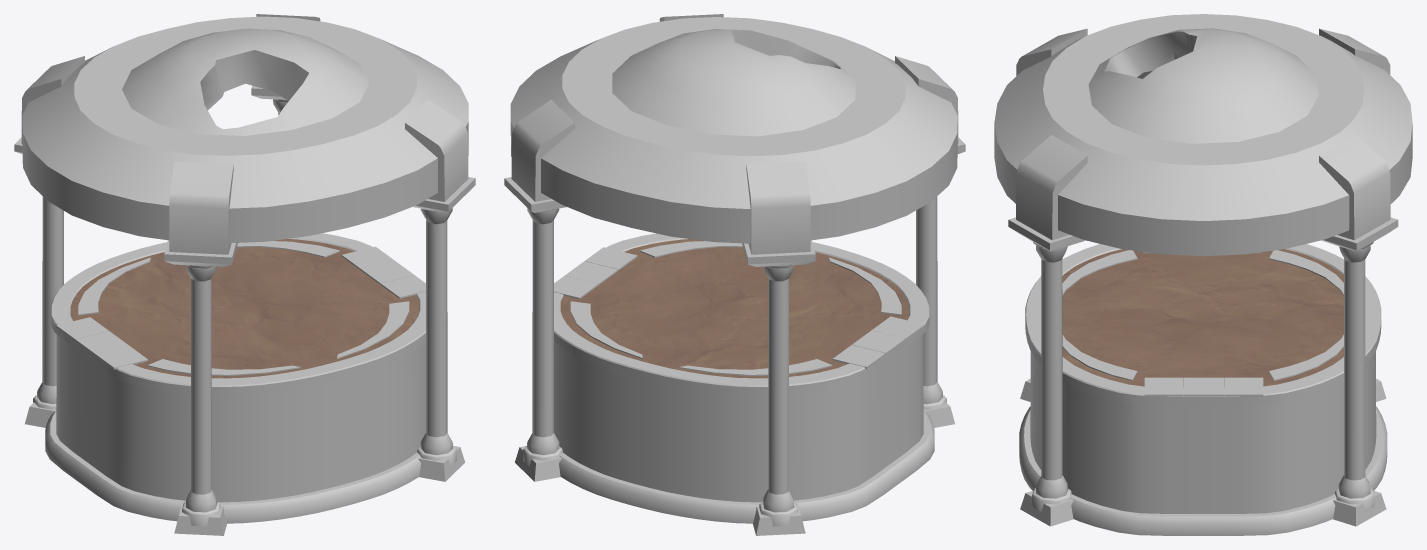
File: platform_Center_StageV2.fbx
3 renders of one model, left to right at view 1: azimuth 30°, elevation 25°; view 2: azimuth 150°, elevation 25°; view 3: azimuth 270°, elevation 25°, orthographic. The views are drawn at different scales.
Visible parts, largest first — view 1: platform_Center_StageV2; view 2: platform_Center_StageV2; view 3: platform_Center_StageV2.
Boxes of the visible parts, x1,y1,x2,y2 form: platform_Center_StageV2: (14, 14, 475, 535); platform_Center_StageV2: (504, 14, 965, 535); platform_Center_StageV2: (994, 14, 1412, 535).
Size of what is drawn, in the model's own units: 1850 by 1778 by 1658.
